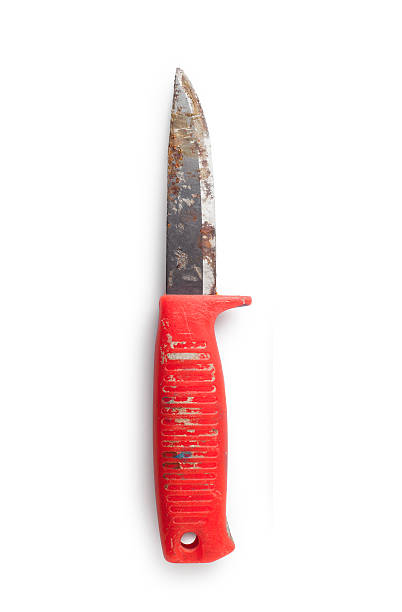knife: (148, 63, 253, 566)
